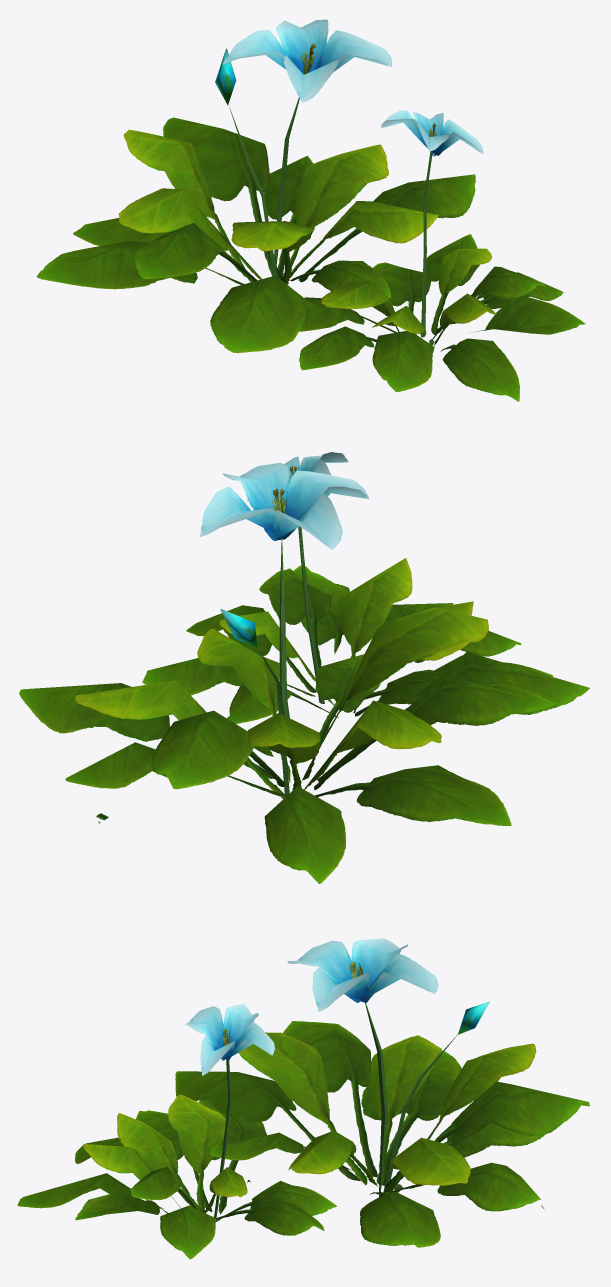
Rendered from wm_灌木洛阳城大灌10.fbx.
3 renders of one model, top to bottom at view 1: azimuth 30°, elevation 25°; view 2: azimuth 150°, elevation 25°; view 3: azimuth 270°, elevation 25°, orthographic. The views are drawn at different scales.
Visible parts, largest first — view 1: wm_灌木洛阳城大灌10; view 2: wm_灌木洛阳城大灌10; view 3: wm_灌木洛阳城大灌10.
Part boxes in pixels (left/top/right/bottom): wm_灌木洛阳城大灌10: left=36, top=19, right=585, bottom=401; wm_灌木洛阳城大灌10: left=19, top=452, right=589, bottom=883; wm_灌木洛阳城大灌10: left=17, top=938, right=589, bottom=1259.
Size of the model in its own units: 192 by 116 by 229.
